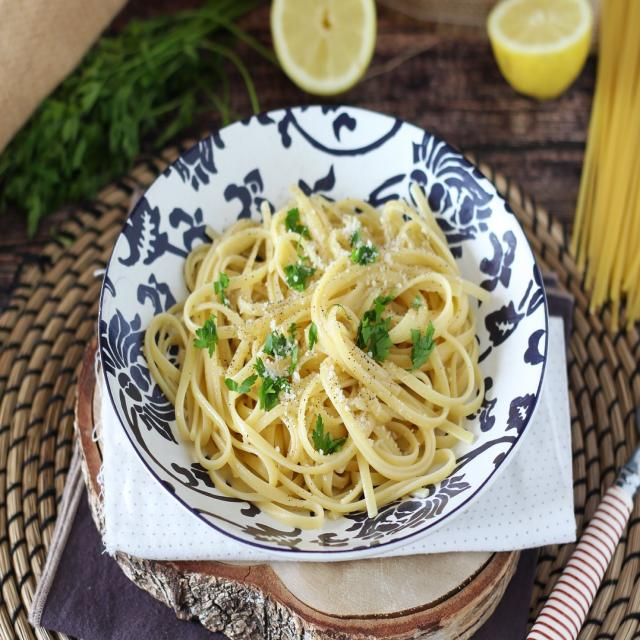pasta: (133, 178, 509, 526)
